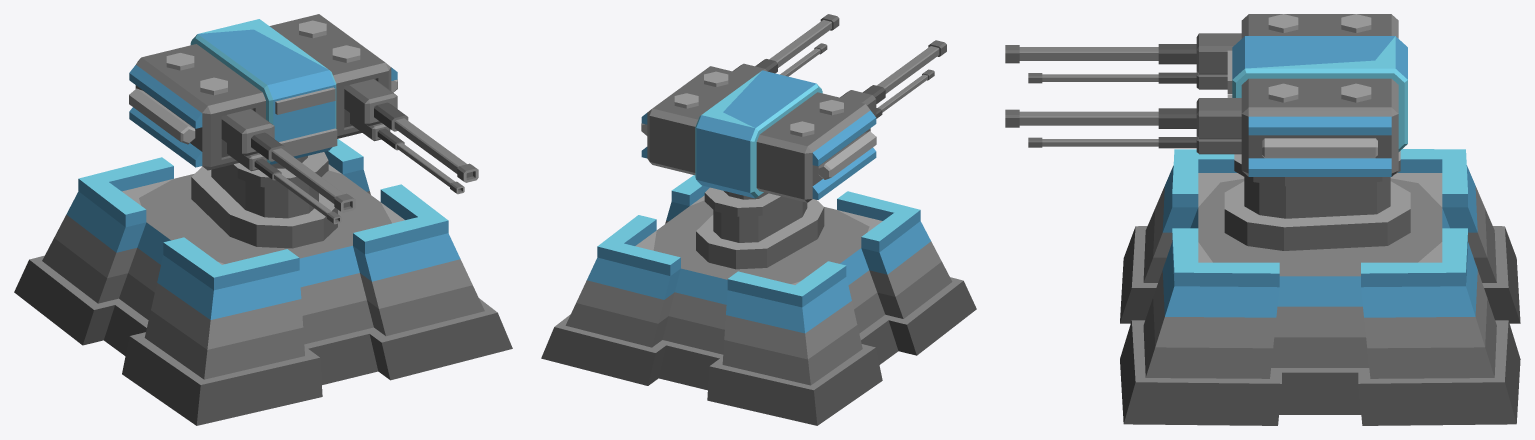
Rendered from tower_rapid_blue_2.fbx.
3 renders of one model, left to right at view 1: azimuth 30°, elevation 25°; view 2: azimuth 150°, elevation 25°; view 3: azimuth 270°, elevation 25°, orthographic. The views are drawn at different scales.
Parts seen in each view (by area): view 1: tower_rapid_blue_2, top_rapid_blue_2; view 2: tower_rapid_blue_2, top_rapid_blue_2; view 3: tower_rapid_blue_2, top_rapid_blue_2.
Part boxes in pixels (x1=…): tower_rapid_blue_2: x1=14, y1=139, x2=512, y2=425; top_rapid_blue_2: x1=129, y1=14, x2=478, y2=248; tower_rapid_blue_2: x1=541, y1=175, x2=976, y2=425; top_rapid_blue_2: x1=641, y1=14, x2=946, y2=269; tower_rapid_blue_2: x1=1120, y1=149, x2=1520, y2=425; top_rapid_blue_2: x1=1005, y1=14, x2=1410, y2=250.
Size of the model in its own units: 171 by 136 by 219.
